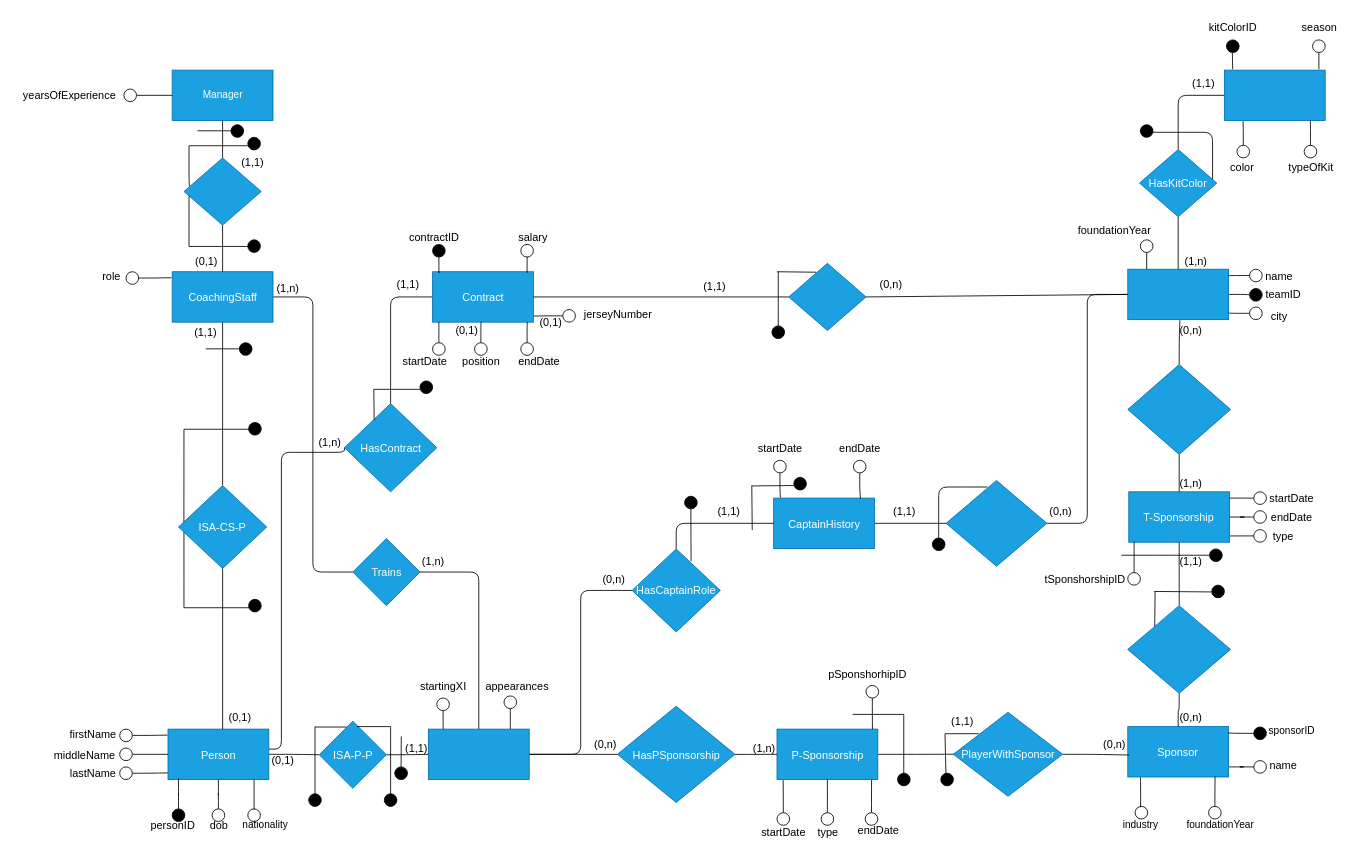
Some shapes in this 1362 by 858 pixel diagram are drawn without their labels. Here are the shapes that lost their labels. From the top down, the box of each, then its label:
(1224, 69, 1325, 121): KitColors
(183, 157, 261, 225): ISA-M-CS
(788, 262, 866, 331): ContracWith
(1127, 268, 1229, 320): Team
(1127, 364, 1231, 454): HasTsponsorship
(945, 480, 1047, 566): HasCaptainHistory
(1127, 605, 1231, 693): TeamWithSponsor
(428, 728, 529, 780): Player
